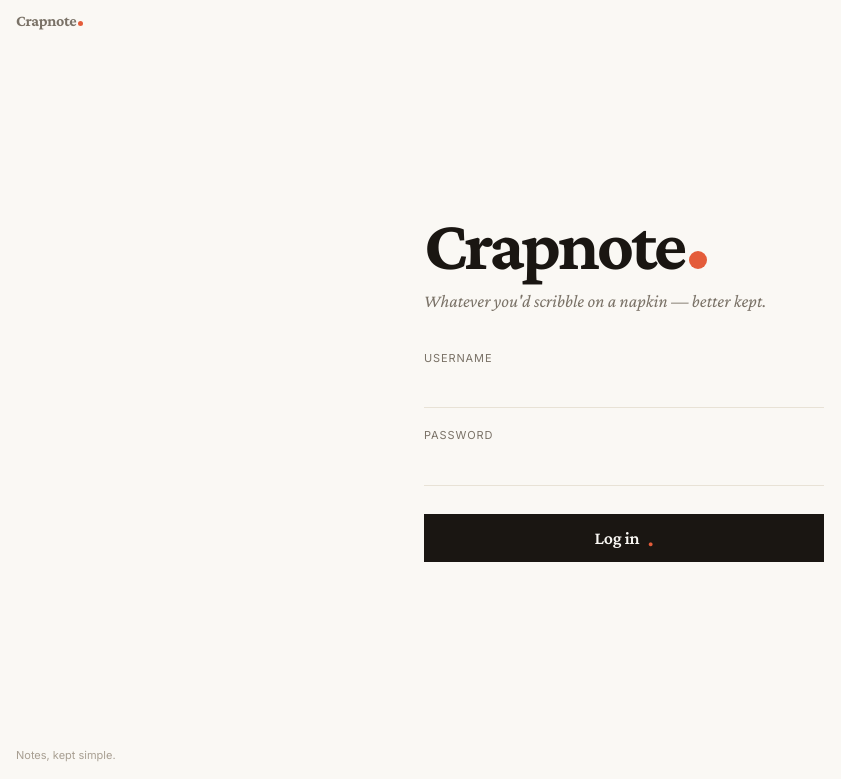
Test case: Login page › shows a locked-account message on 403
Step 1. Type "alice" into the field labelled "Username" → [624, 390], box [424,371,824,408]
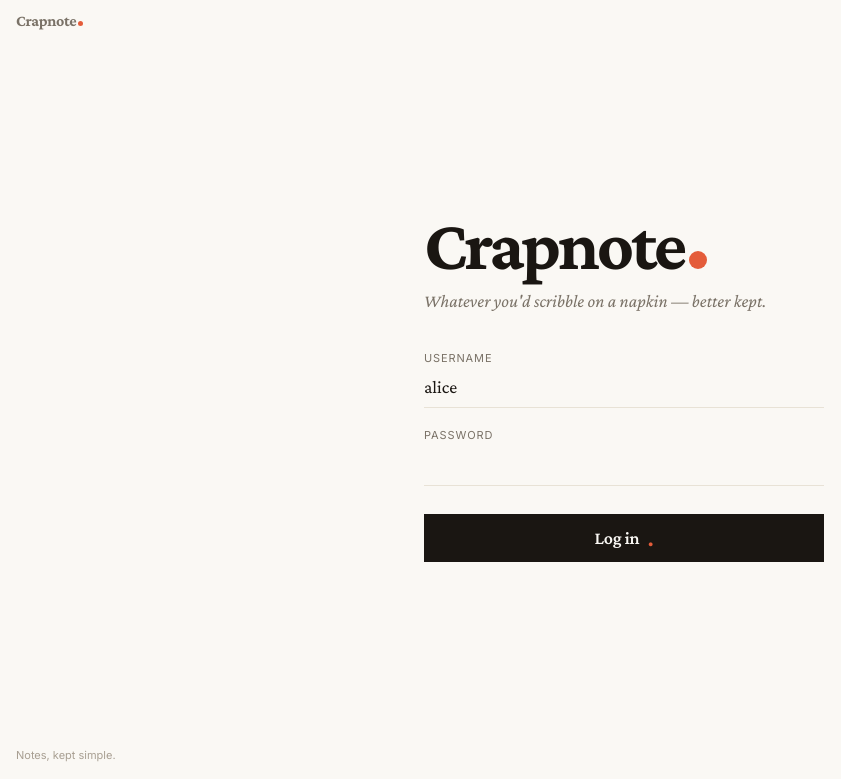
Step 2. Type "right" into the password field labelled "Password" → [624, 467], box [424,449,824,486]
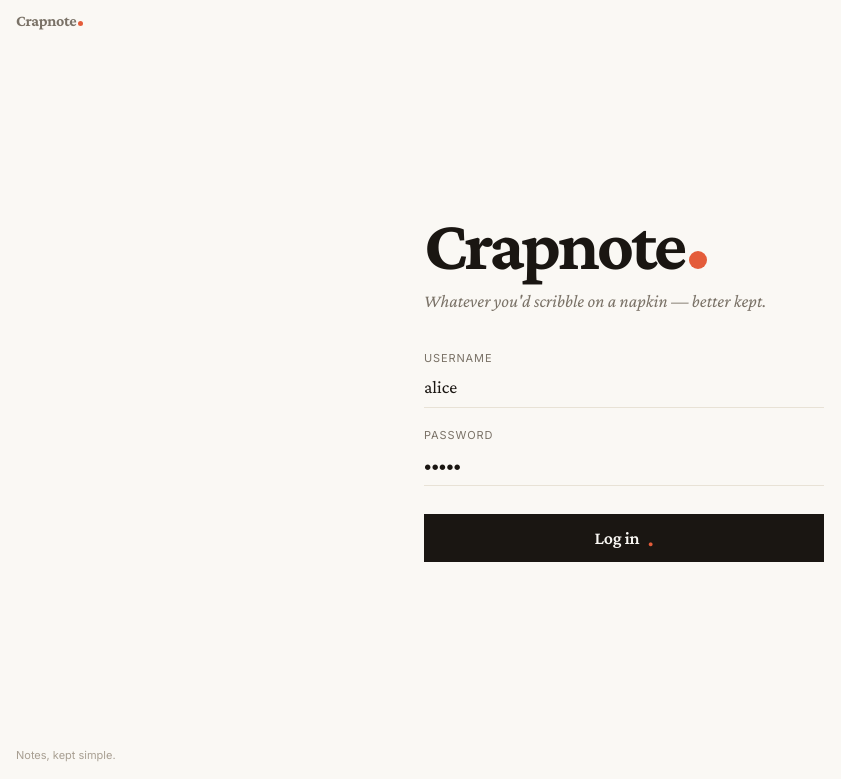
Step 3. Click the button "Log in ." → [624, 538], box [424,514,824,562]
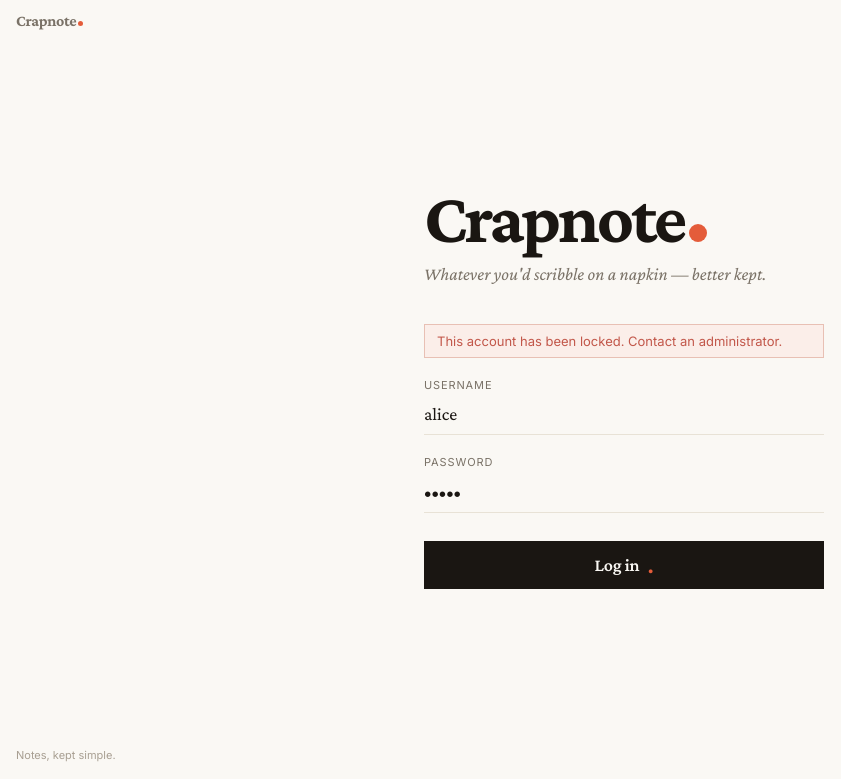
Expected: the message shows "Contact an administrator", [437,333,782,349]
